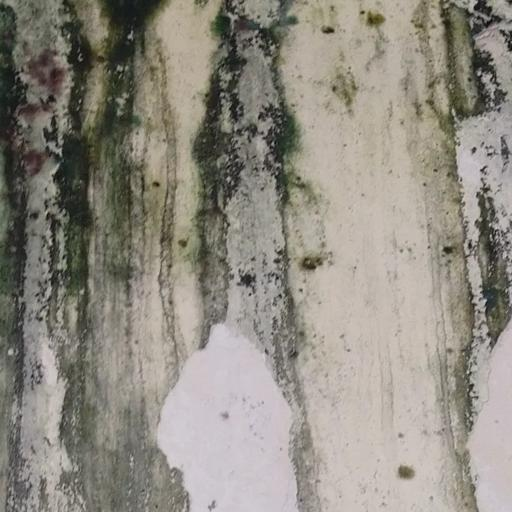algae: (1, 4, 320, 511)
